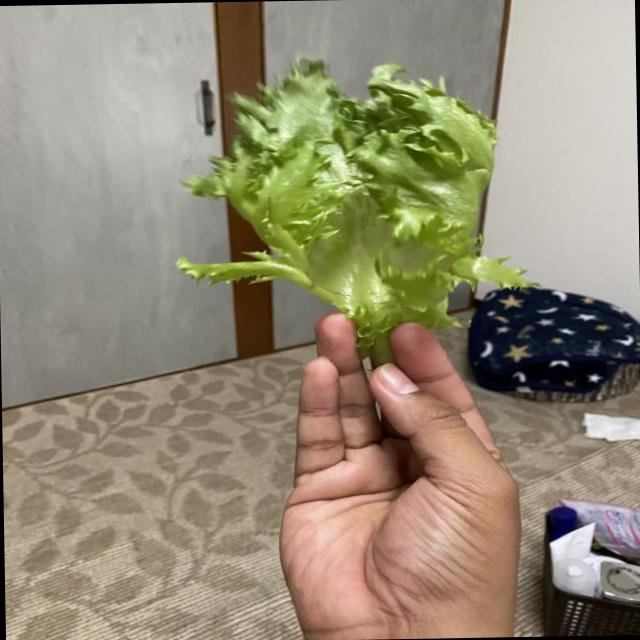Lettuce-Ready-to-Harvest: (177, 59, 527, 364)
